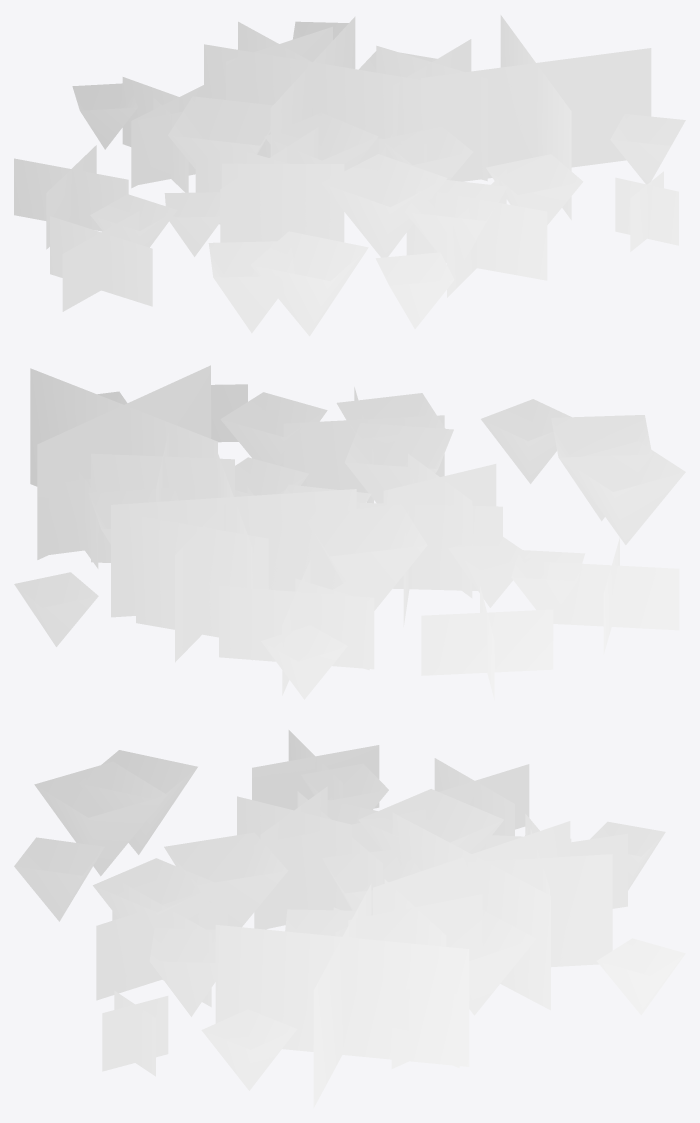
Rendered from SM_Env_Creeper_Clump_01.glb.
3 views of the same model, one above another, from view 1: azimuth 30°, elevation 25°; view 2: azimuth 150°, elevation 25°; view 3: azimuth 270°, elevation 25° (orthographic). The views are drawn at different scales.
Parts seen in each view (by area): view 1: SM_Env_Creeper_Clump_01; view 2: SM_Env_Creeper_Clump_01; view 3: SM_Env_Creeper_Clump_01.
Boxes of the visible parts, left/top/right/bottom form: SM_Env_Creeper_Clump_01: left=14, top=15, right=685, bottom=336; SM_Env_Creeper_Clump_01: left=14, top=365, right=685, bottom=700; SM_Env_Creeper_Clump_01: left=14, top=730, right=685, bottom=1107.
Bounding box in the file's own units: 1.33 × 0.2286 × 1.18.
Materials: 1 (1 with a texture image).
